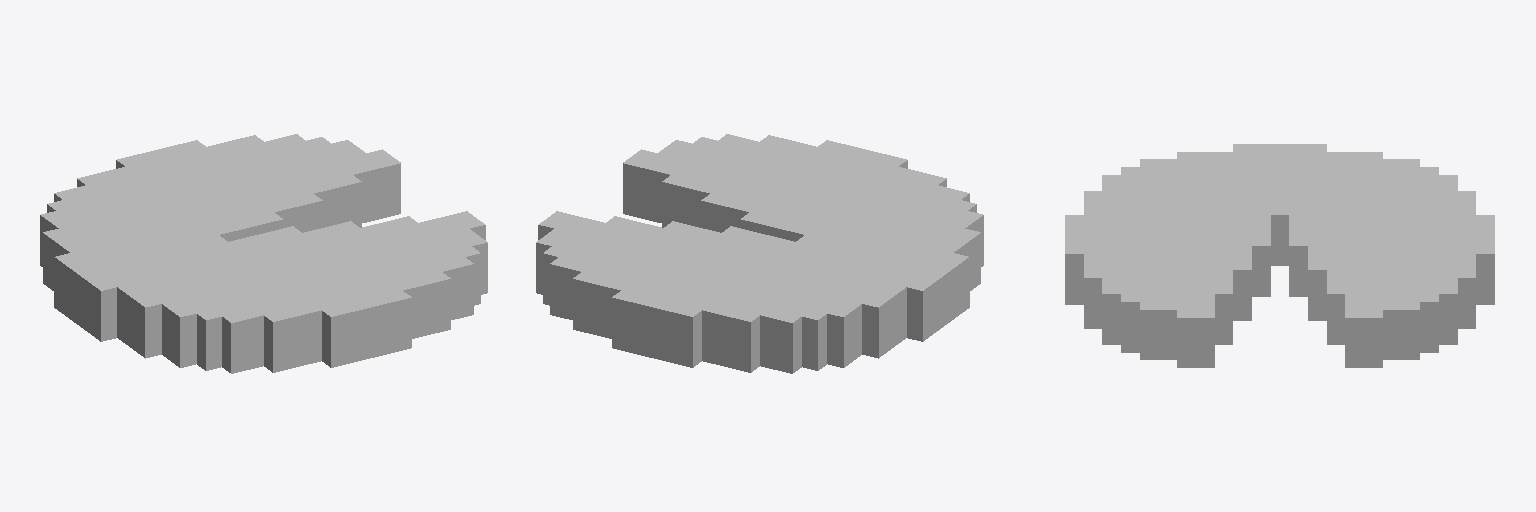
The model's file is Pac Man Frame 4.obj.
The picture shows the model from 3 angles: view 1: azimuth 30°, elevation 25°; view 2: azimuth 150°, elevation 25°; view 3: azimuth 270°, elevation 25°; orthographic projection.
Bounding box in the file's own units: 22 × 3 × 23.